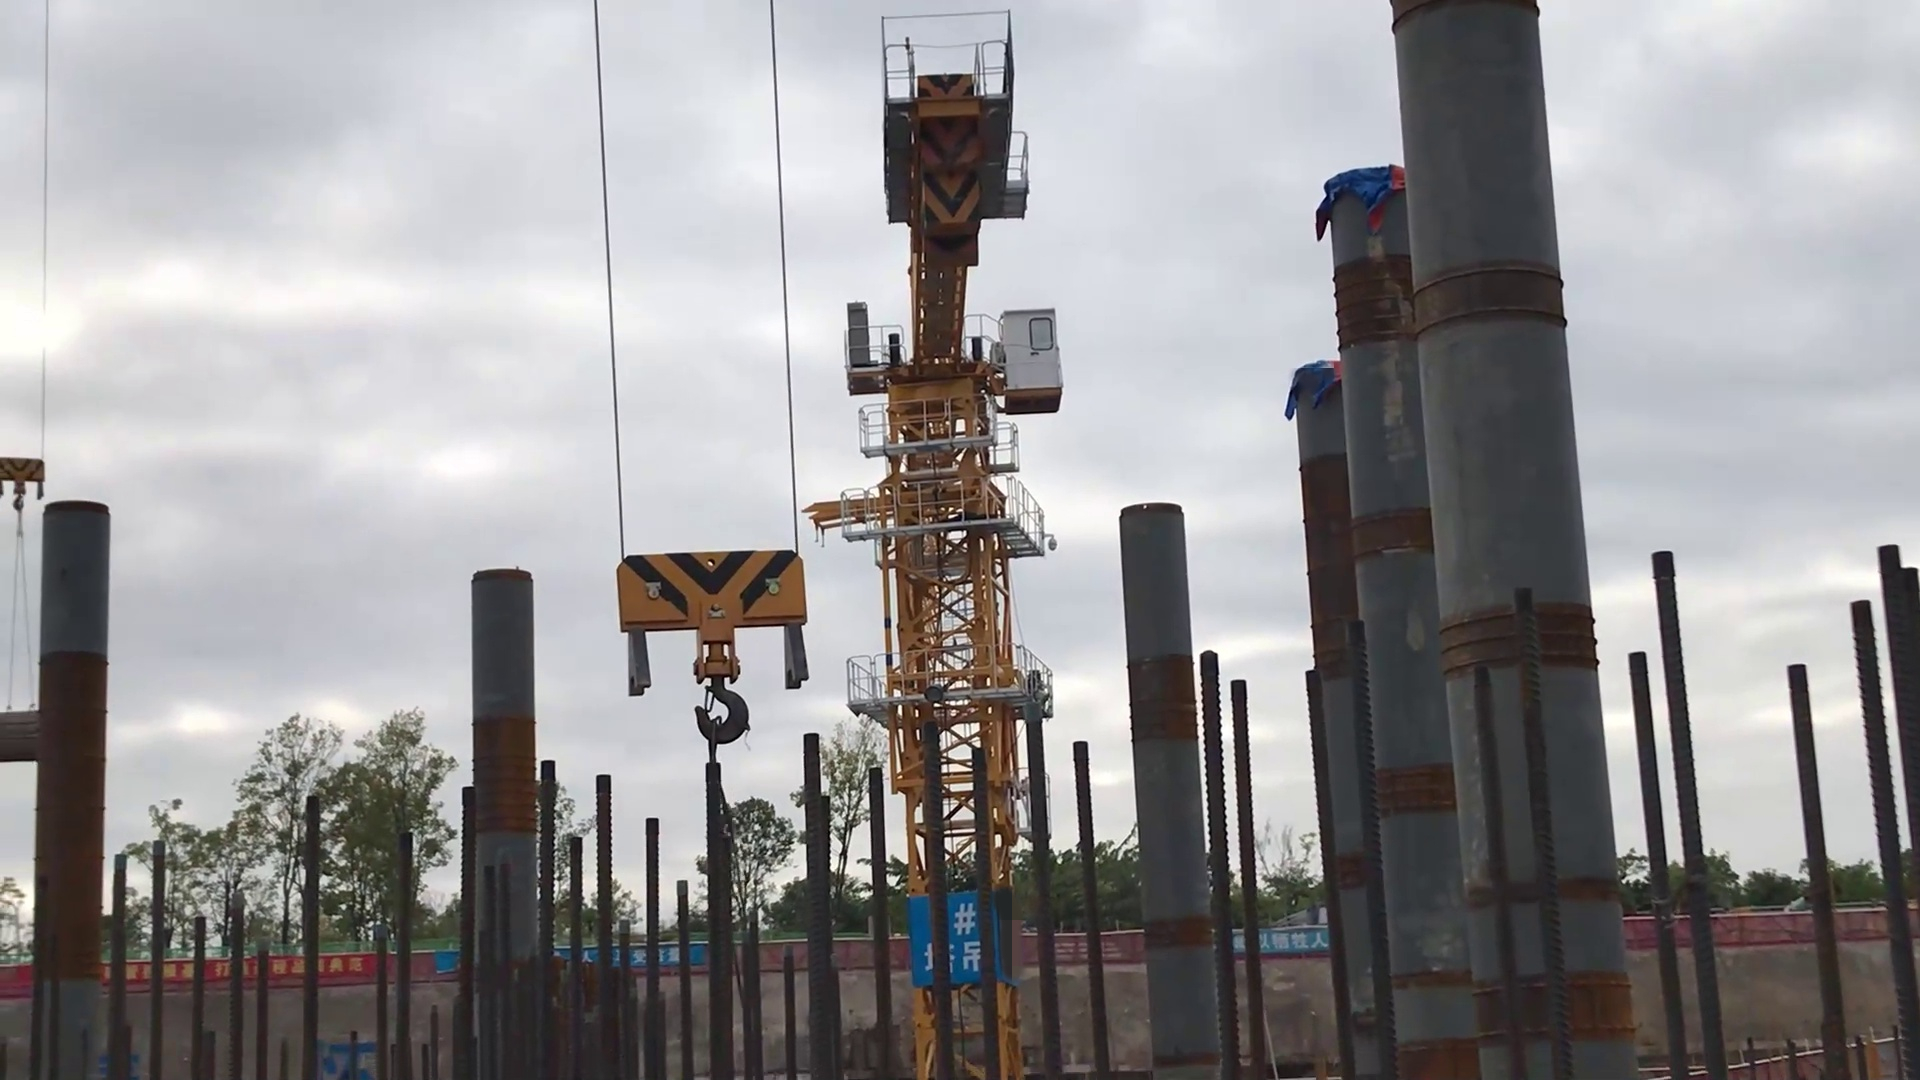fence: (3, 899, 1920, 994)
hook: (597, 539, 808, 731), (3, 452, 47, 506)
slogan: (94, 945, 381, 986), (438, 943, 715, 978), (1208, 924, 1329, 961)
